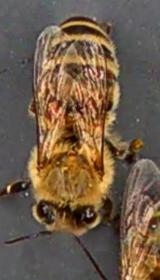varroa_mite: (36, 95, 66, 122)
